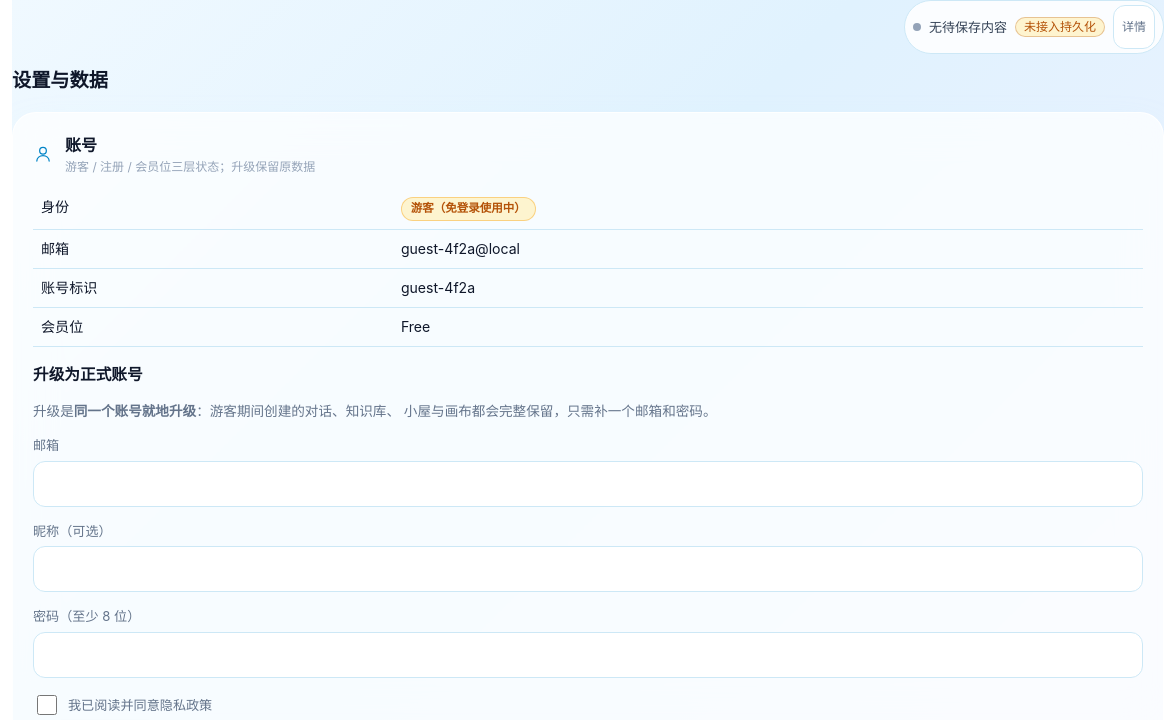
Test: 设置页账号卡 · 账号三层（W8） › 未勾选隐私政策同意时不发请求，并说明原因
The width and height of the screenshot is (1164, 720).
In the field with test id "upgrade-email": x=588, y=484 [33,460,1143,506], type "jia@example.com"
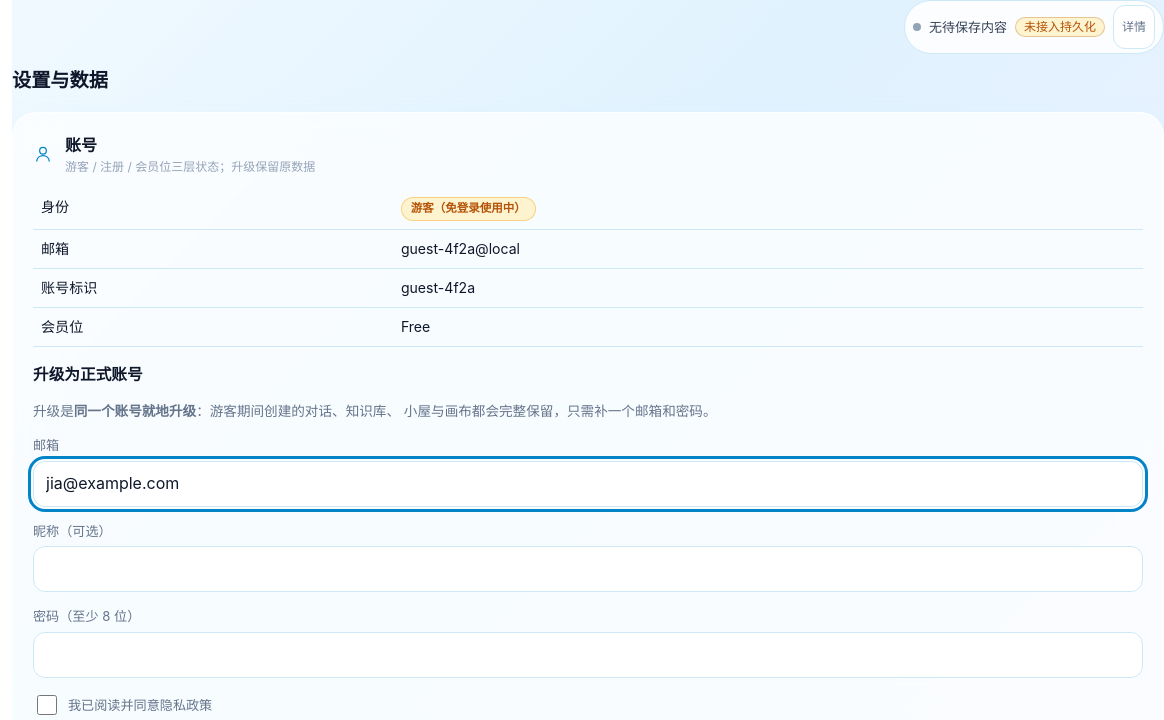
In the password field with test id "upgrade-password": x=588, y=654 [33,632,1143,678], type "correct-horse"
(page scrolled)
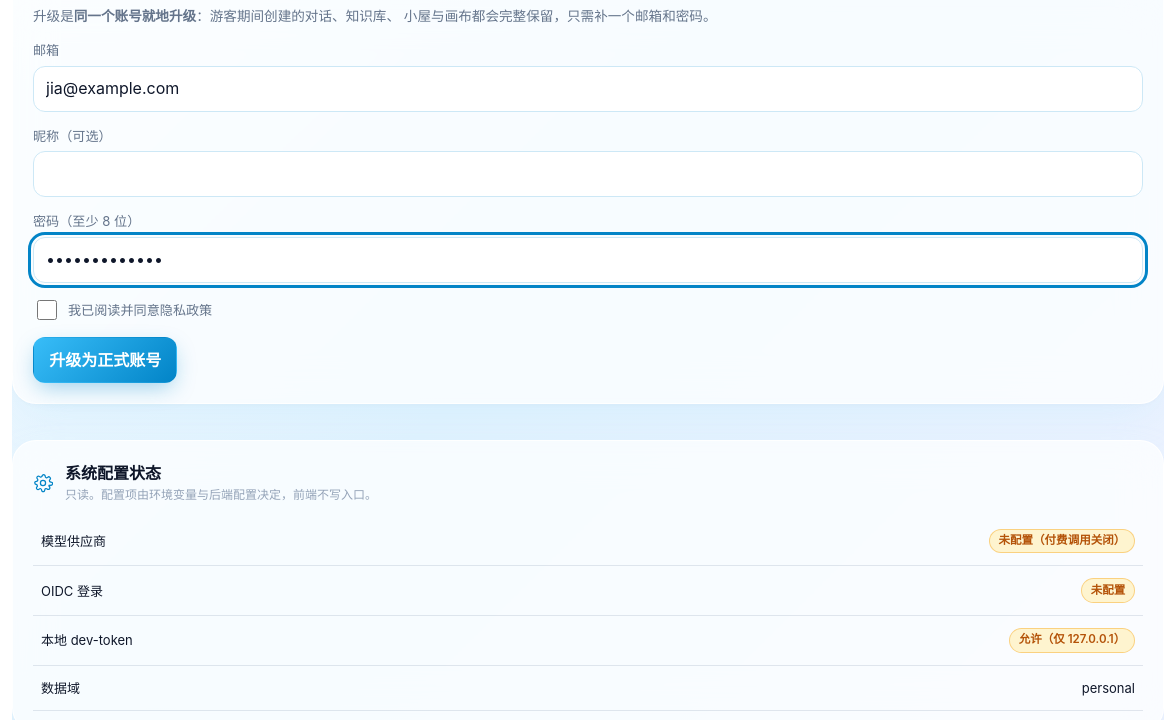
Click the button with test id "upgrade-submit": x=105, y=360 [33,337,177,383]
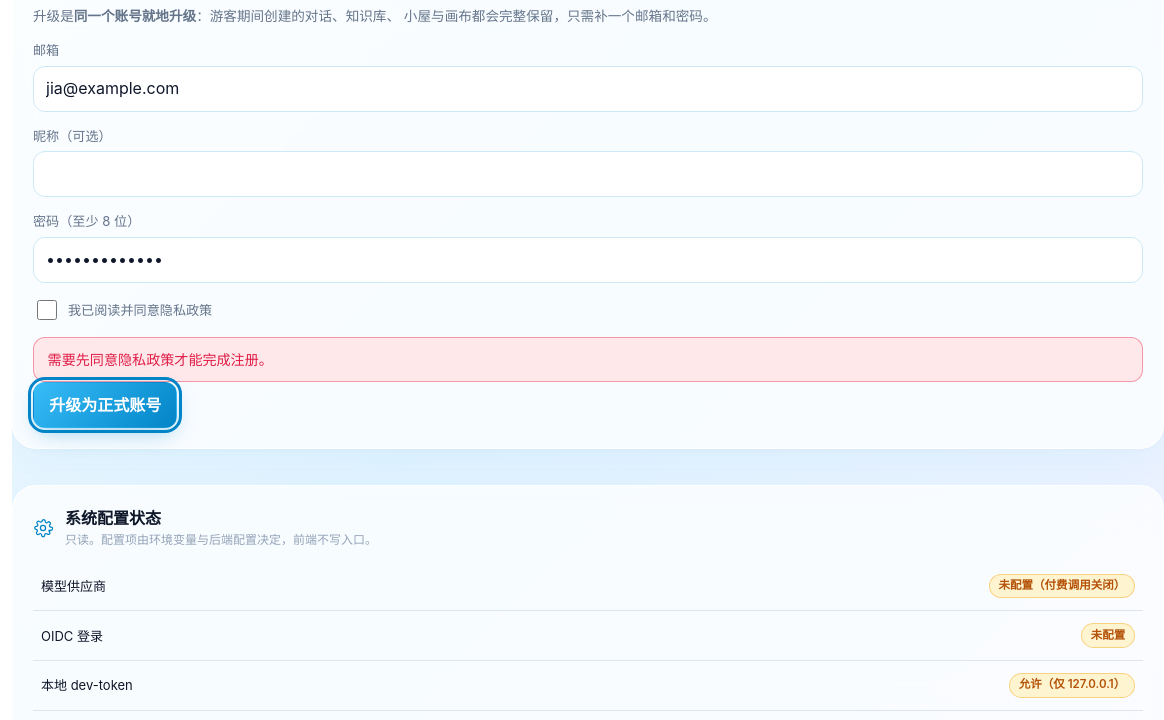
Result: the message with test id "upgrade-error" shows "同意隐私政策" at [48,351,273,368]
